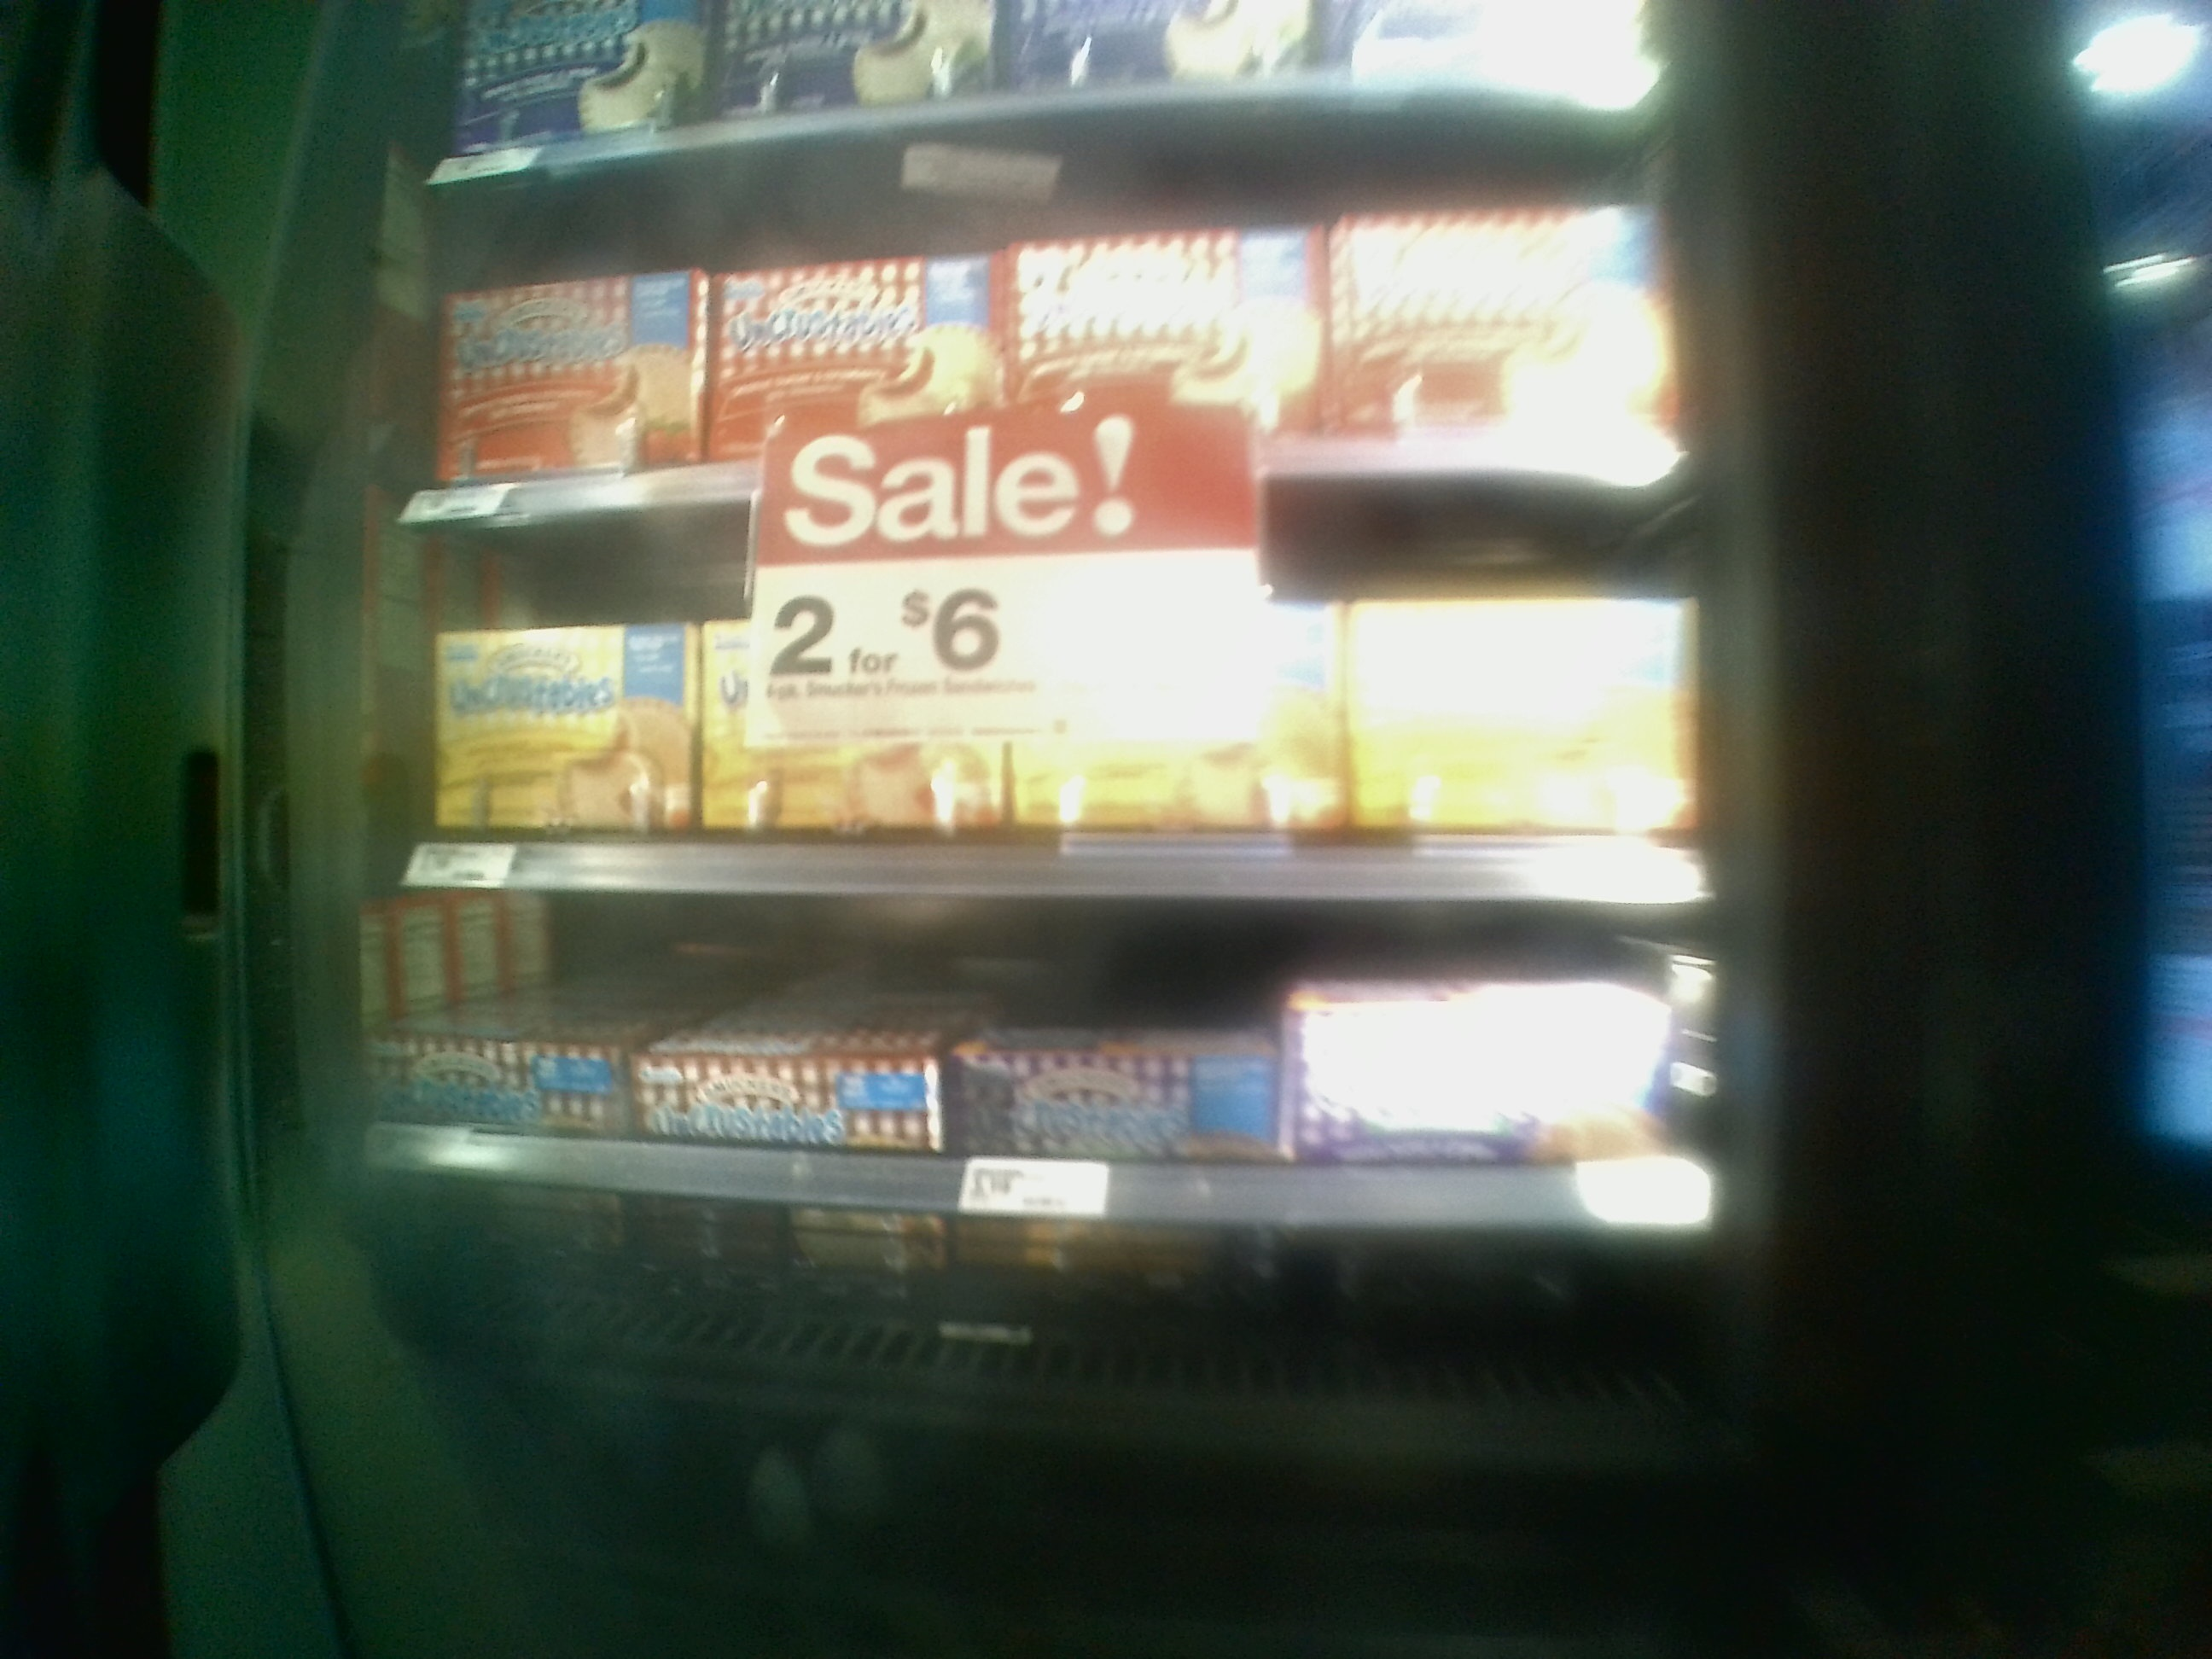shelf: (380, 887, 1721, 1394), (387, 533, 1712, 908), (408, 166, 1695, 497)
